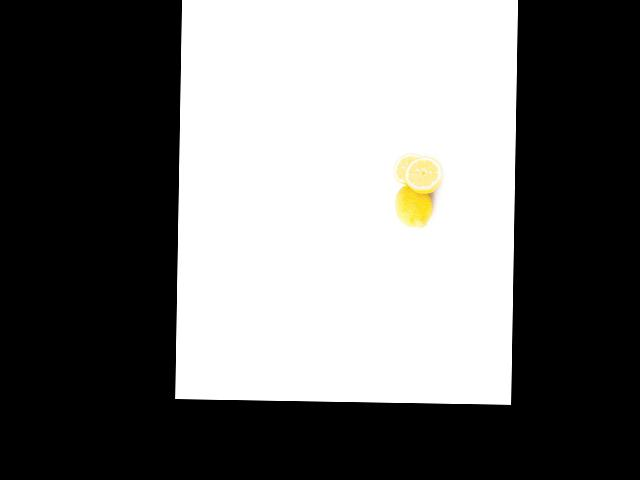lemon: (392, 184, 434, 231)
